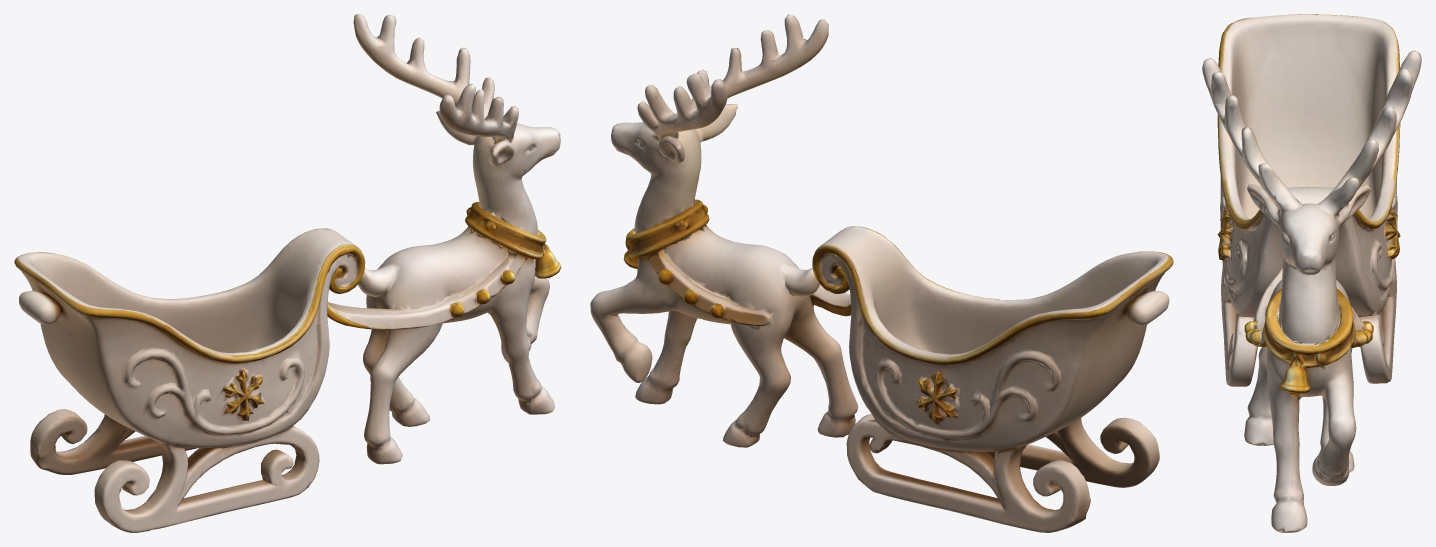
The model's file is reindeer.glb.
3 views of the same model, side by side, from view 1: azimuth 30°, elevation 25°; view 2: azimuth 150°, elevation 25°; view 3: azimuth 270°, elevation 25° (orthographic). The views are drawn at different scales.
Visible parts, largest first — view 1: tripo_node_143e7bbe-adb5-4d5b-a30f-d0031fe7fb57; view 2: tripo_node_143e7bbe-adb5-4d5b-a30f-d0031fe7fb57; view 3: tripo_node_143e7bbe-adb5-4d5b-a30f-d0031fe7fb57.
Boxes of the visible parts, left/top/right/bottom form: tripo_node_143e7bbe-adb5-4d5b-a30f-d0031fe7fb57: left=14, top=14, right=561, bottom=532; tripo_node_143e7bbe-adb5-4d5b-a30f-d0031fe7fb57: left=590, top=14, right=1173, bottom=532; tripo_node_143e7bbe-adb5-4d5b-a30f-d0031fe7fb57: left=1202, top=14, right=1421, bottom=532.
Size of the model in its own units: 0.98 by 0.6691 by 0.3228.
1 material, 1 textured.
